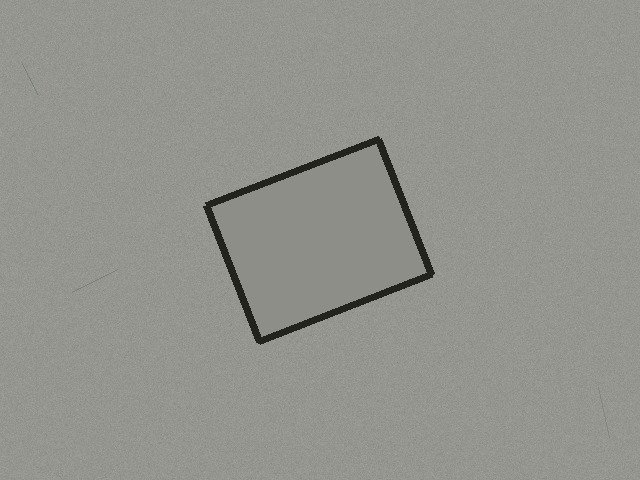parking_area: (206, 139, 431, 341)
